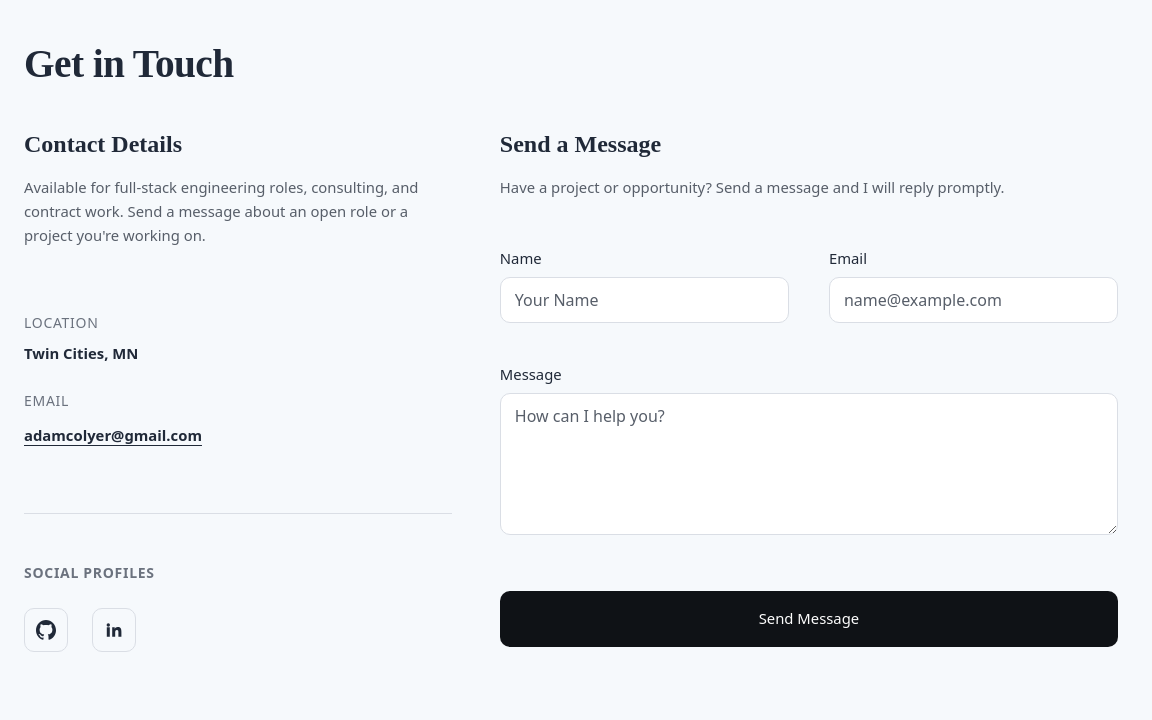
it: Contact form › rejects a message shorter than 10 characters
Type "QA Tester" into the field labelled "Name" at (644, 300), box top-left (500, 277), bottom-right (789, 323)
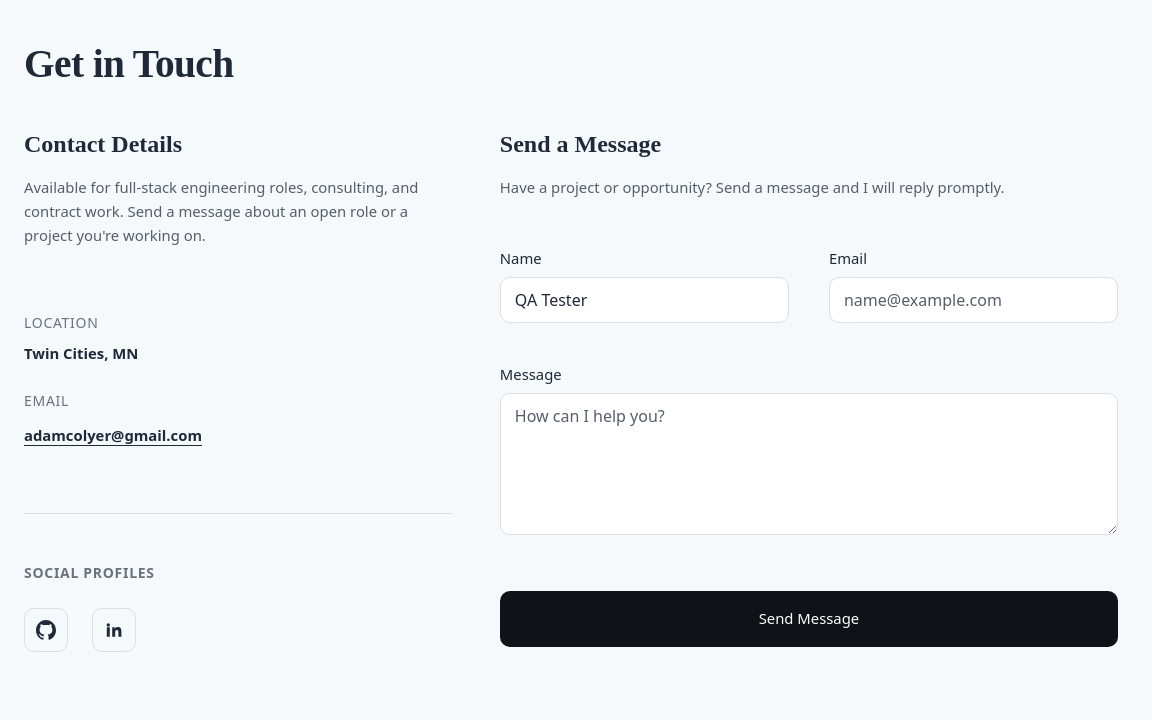
Type "qa@example.com" into the field labelled "Email" at (973, 300), box top-left (829, 277), bottom-right (1118, 323)
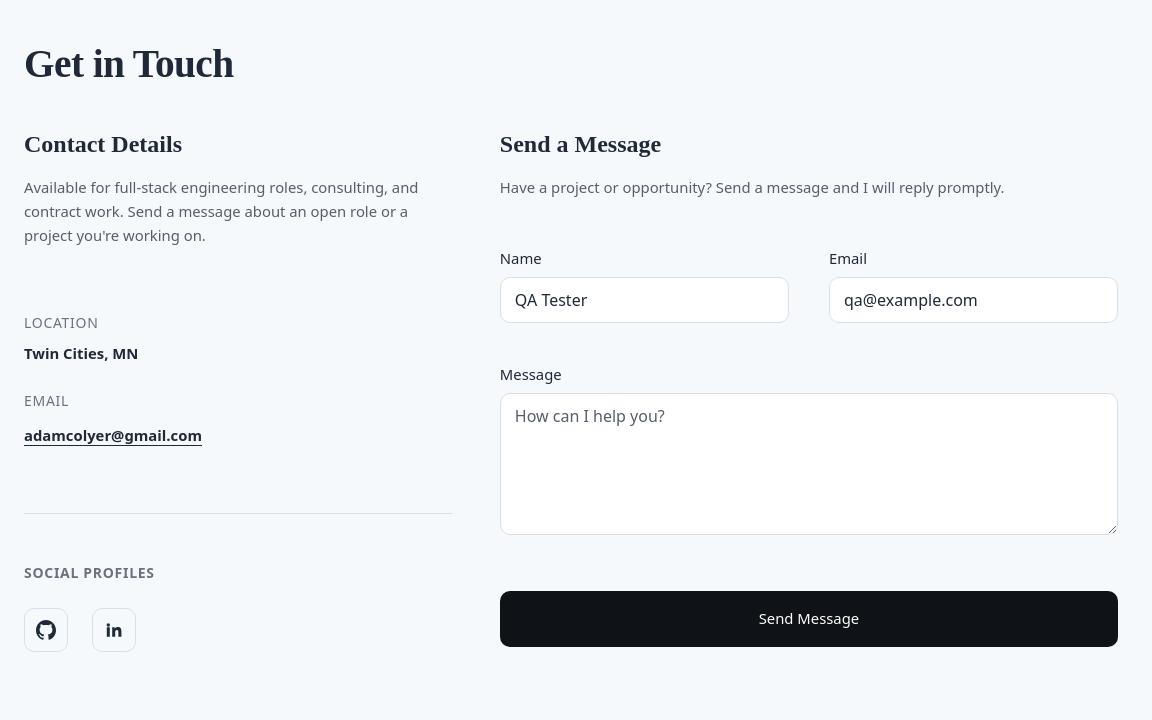
Type "Hi" into the text box labelled "Message" at (809, 464), box top-left (500, 393), bottom-right (1118, 535)
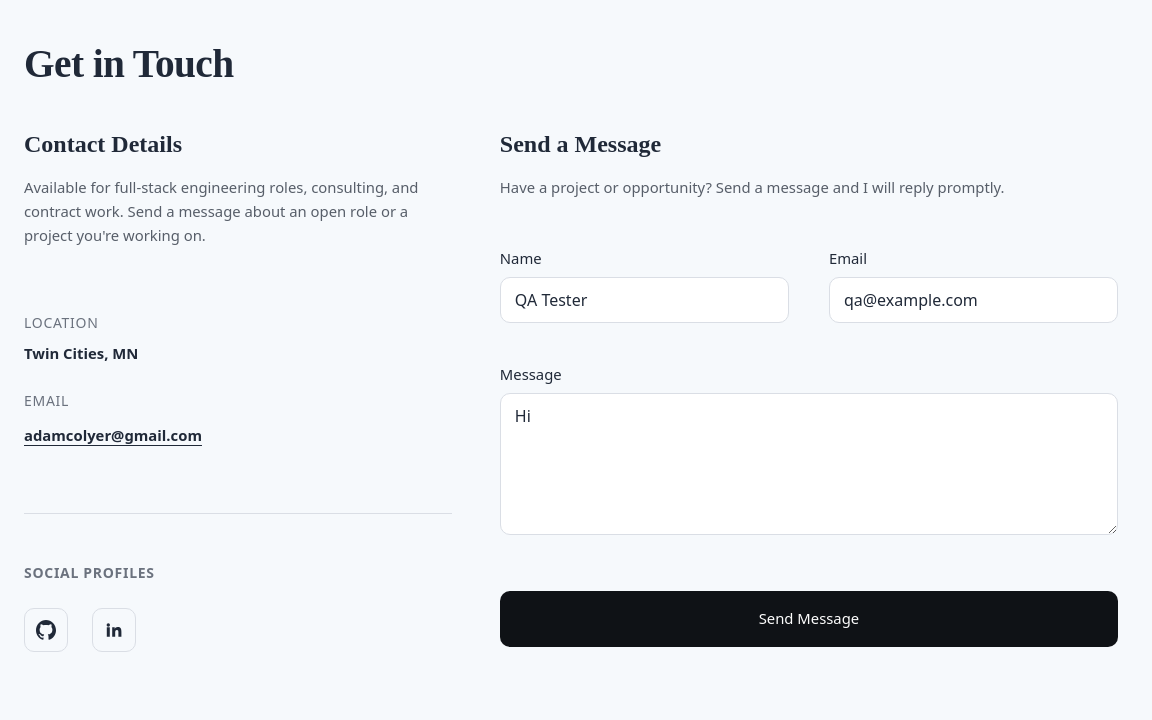
Click the submit button at (809, 619), box top-left (500, 591), bottom-right (1118, 647)
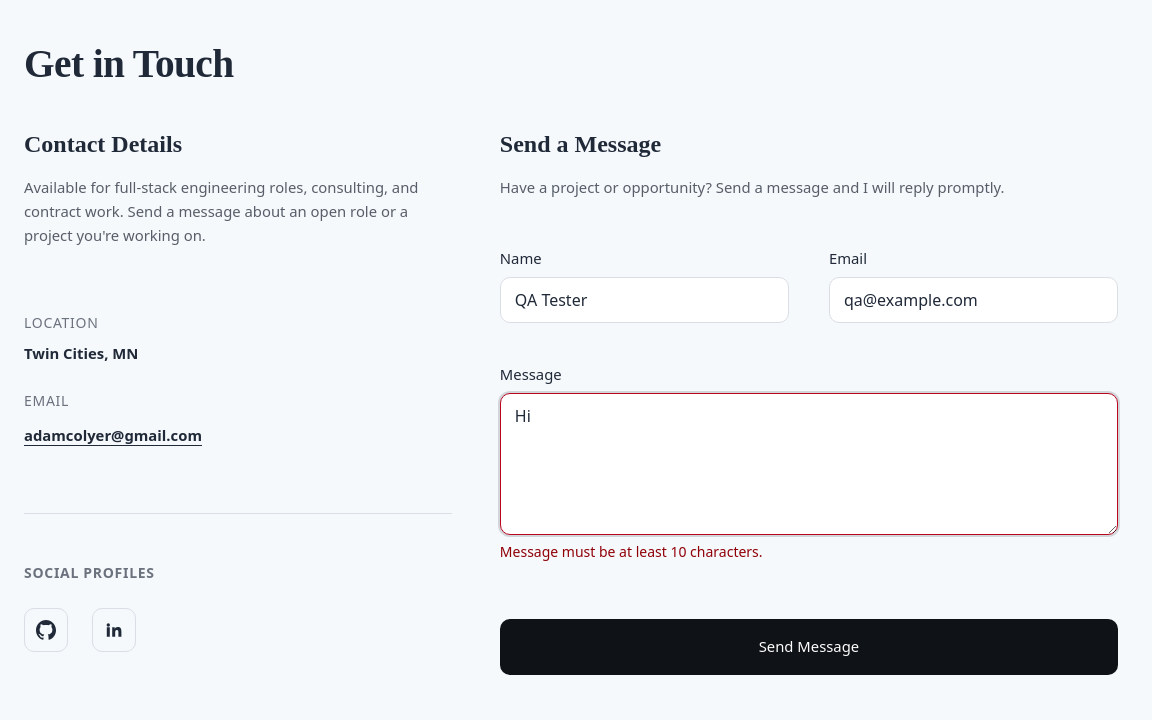
Result: the text "Message must be at least 10 characters." is shown at top-left (500, 542), bottom-right (763, 561)
